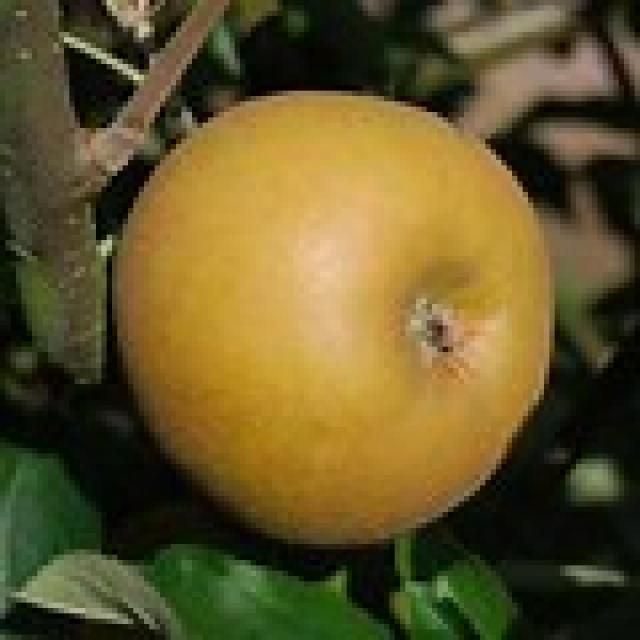apple: (110, 88, 558, 550)
